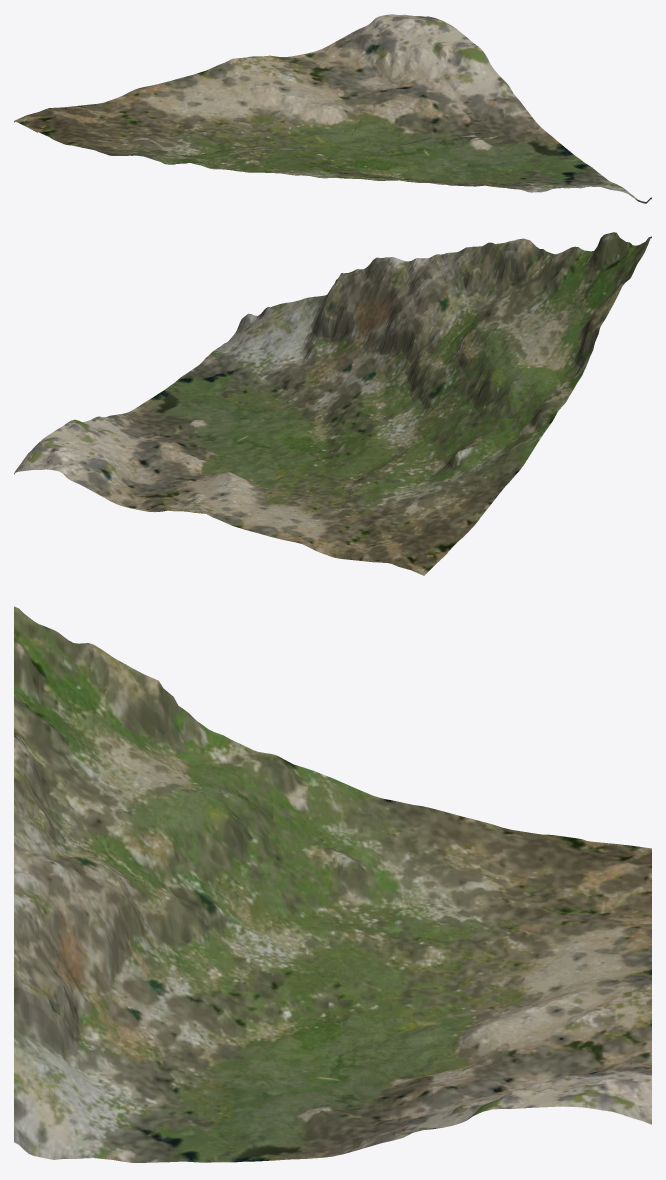
3 renders of one model, top to bottom at view 1: azimuth 30°, elevation 25°; view 2: azimuth 150°, elevation 25°; view 3: azimuth 270°, elevation 25°, orthographic. The views are drawn at different scales.
Bounding box in the file's own units: 250 × 116 × 241.
1 material, 1 textured.
